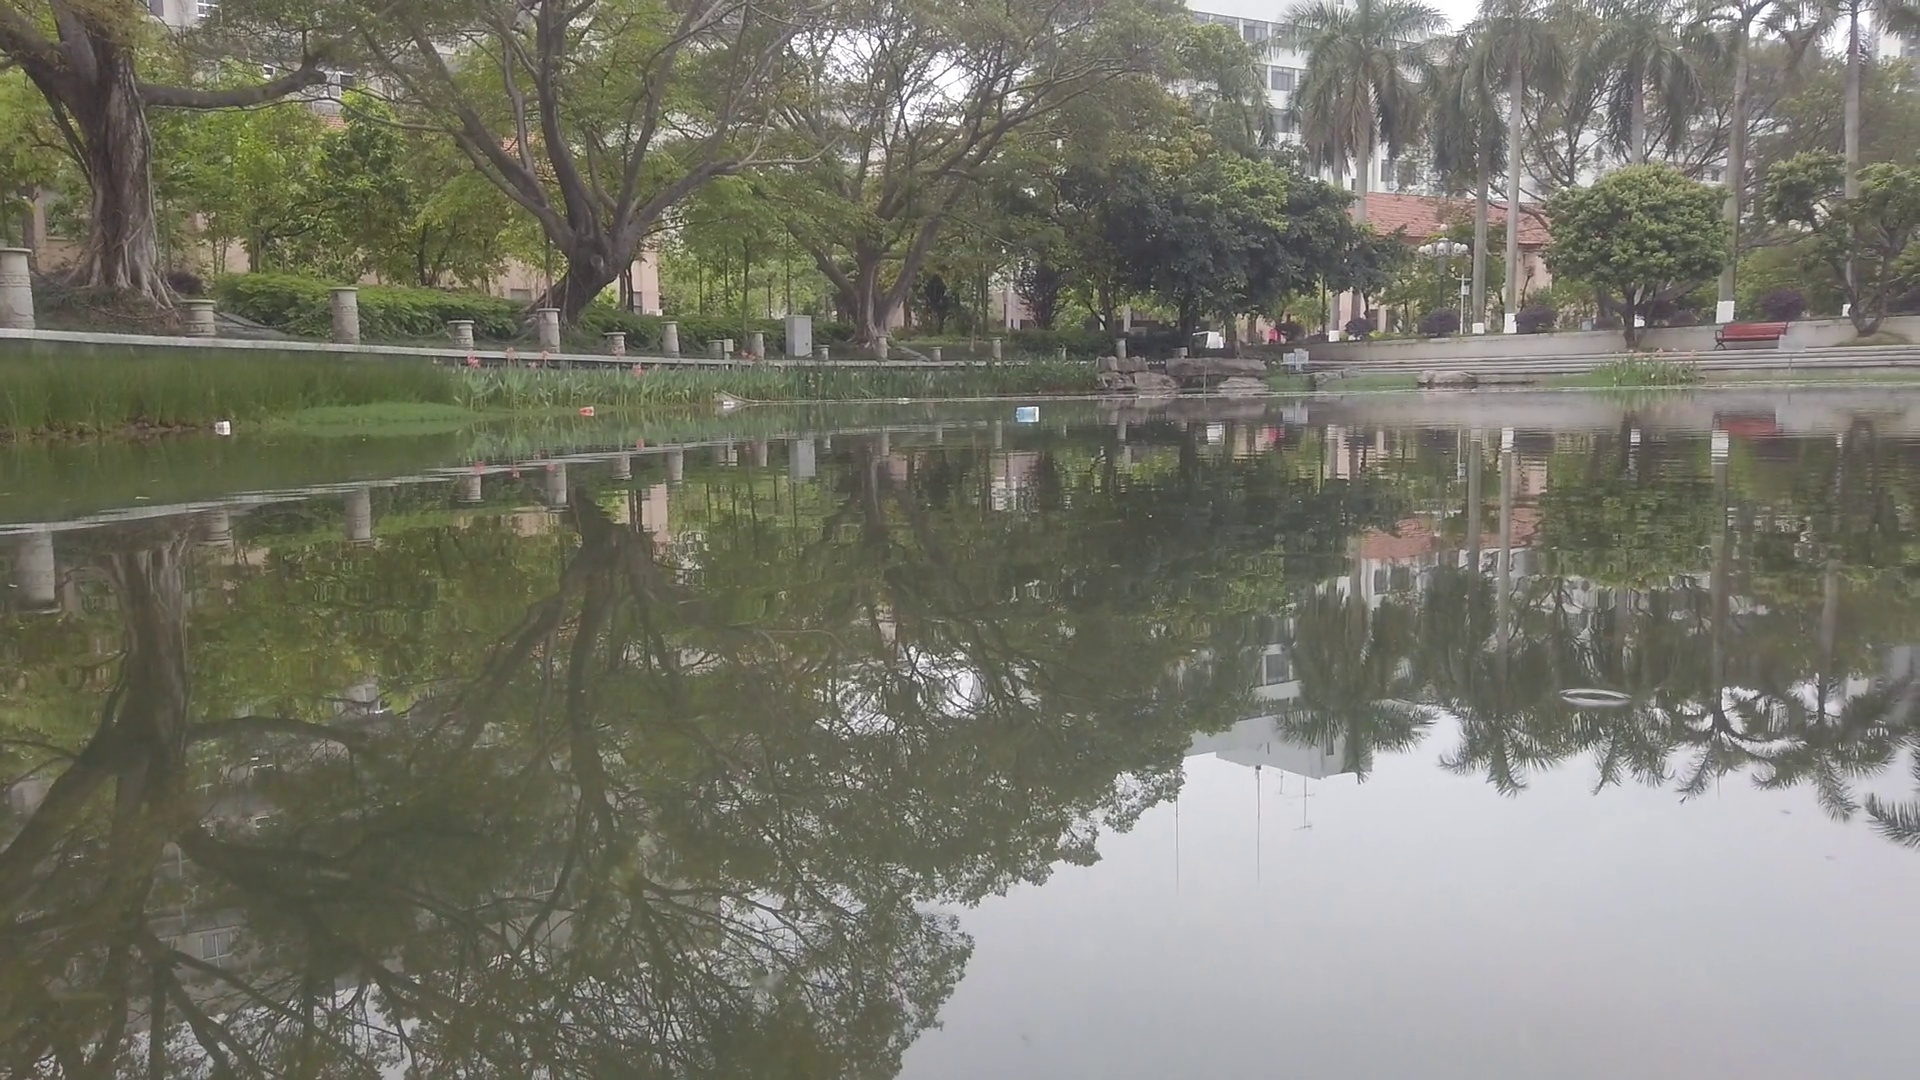bottle: (579, 404, 595, 415), (723, 401, 735, 407), (898, 397, 909, 404)
carton: (1015, 406, 1040, 419), (216, 421, 229, 431)
